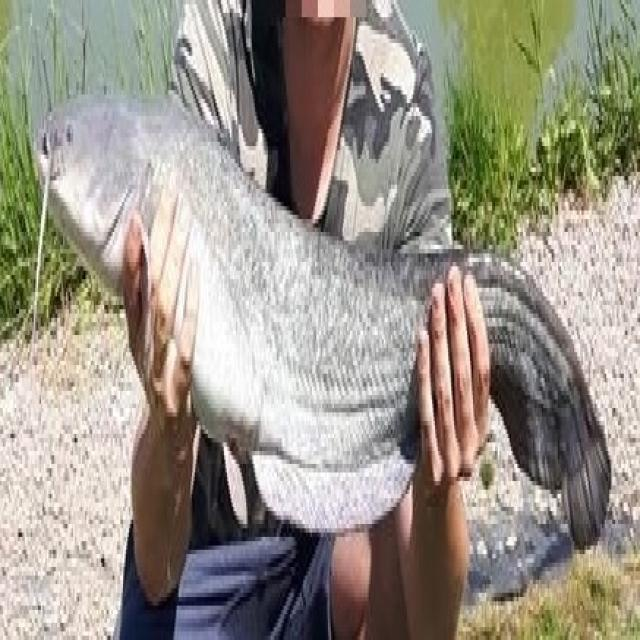Catfish: (22, 98, 617, 592)
